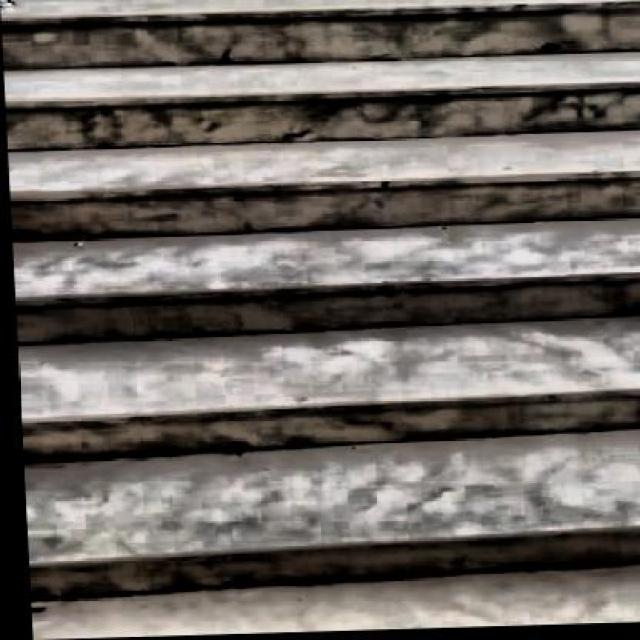stair: (0, 0, 638, 611)
